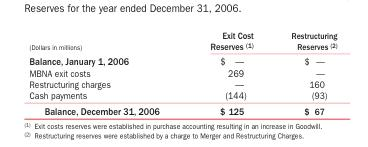table: (28, 29, 336, 116)
table column: (28, 29, 184, 116), (184, 29, 271, 116), (271, 29, 336, 116)
table column header: (28, 29, 336, 53)
table row: (28, 29, 336, 53), (28, 102, 336, 116), (28, 53, 336, 66), (28, 89, 336, 102), (28, 66, 336, 78), (28, 78, 336, 89)
